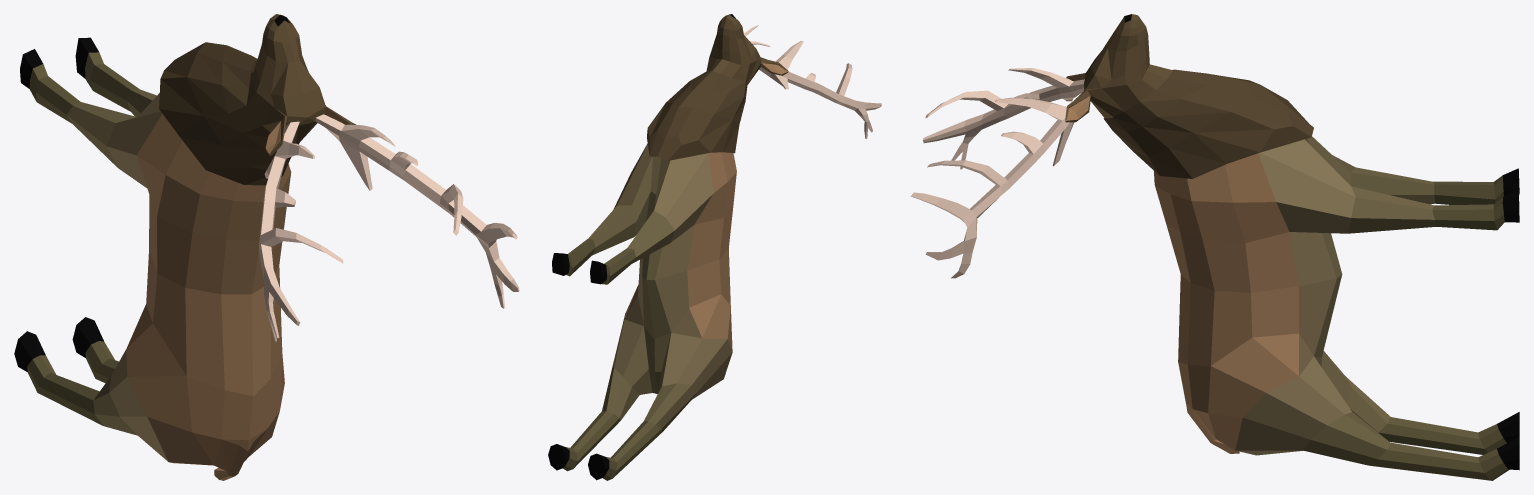
File: deer.obj
3 views of the same model, side by side, from view 1: azimuth 30°, elevation 25°; view 2: azimuth 150°, elevation 25°; view 3: azimuth 270°, elevation 25° (orthographic). The views are drawn at different scales.
Visible parts, largest first — view 1: 09deerFinal; view 2: 09deerFinal; view 3: 09deerFinal.
Part boxes in pixels (x1,y1,x2,y2): 09deerFinal: [14, 14, 519, 480]; 09deerFinal: [548, 14, 881, 480]; 09deerFinal: [910, 14, 1519, 480].
Size of the model in its own units: 0.8287 by 1.79 by 2.17.
Materials: 1 (1 with a texture image).
